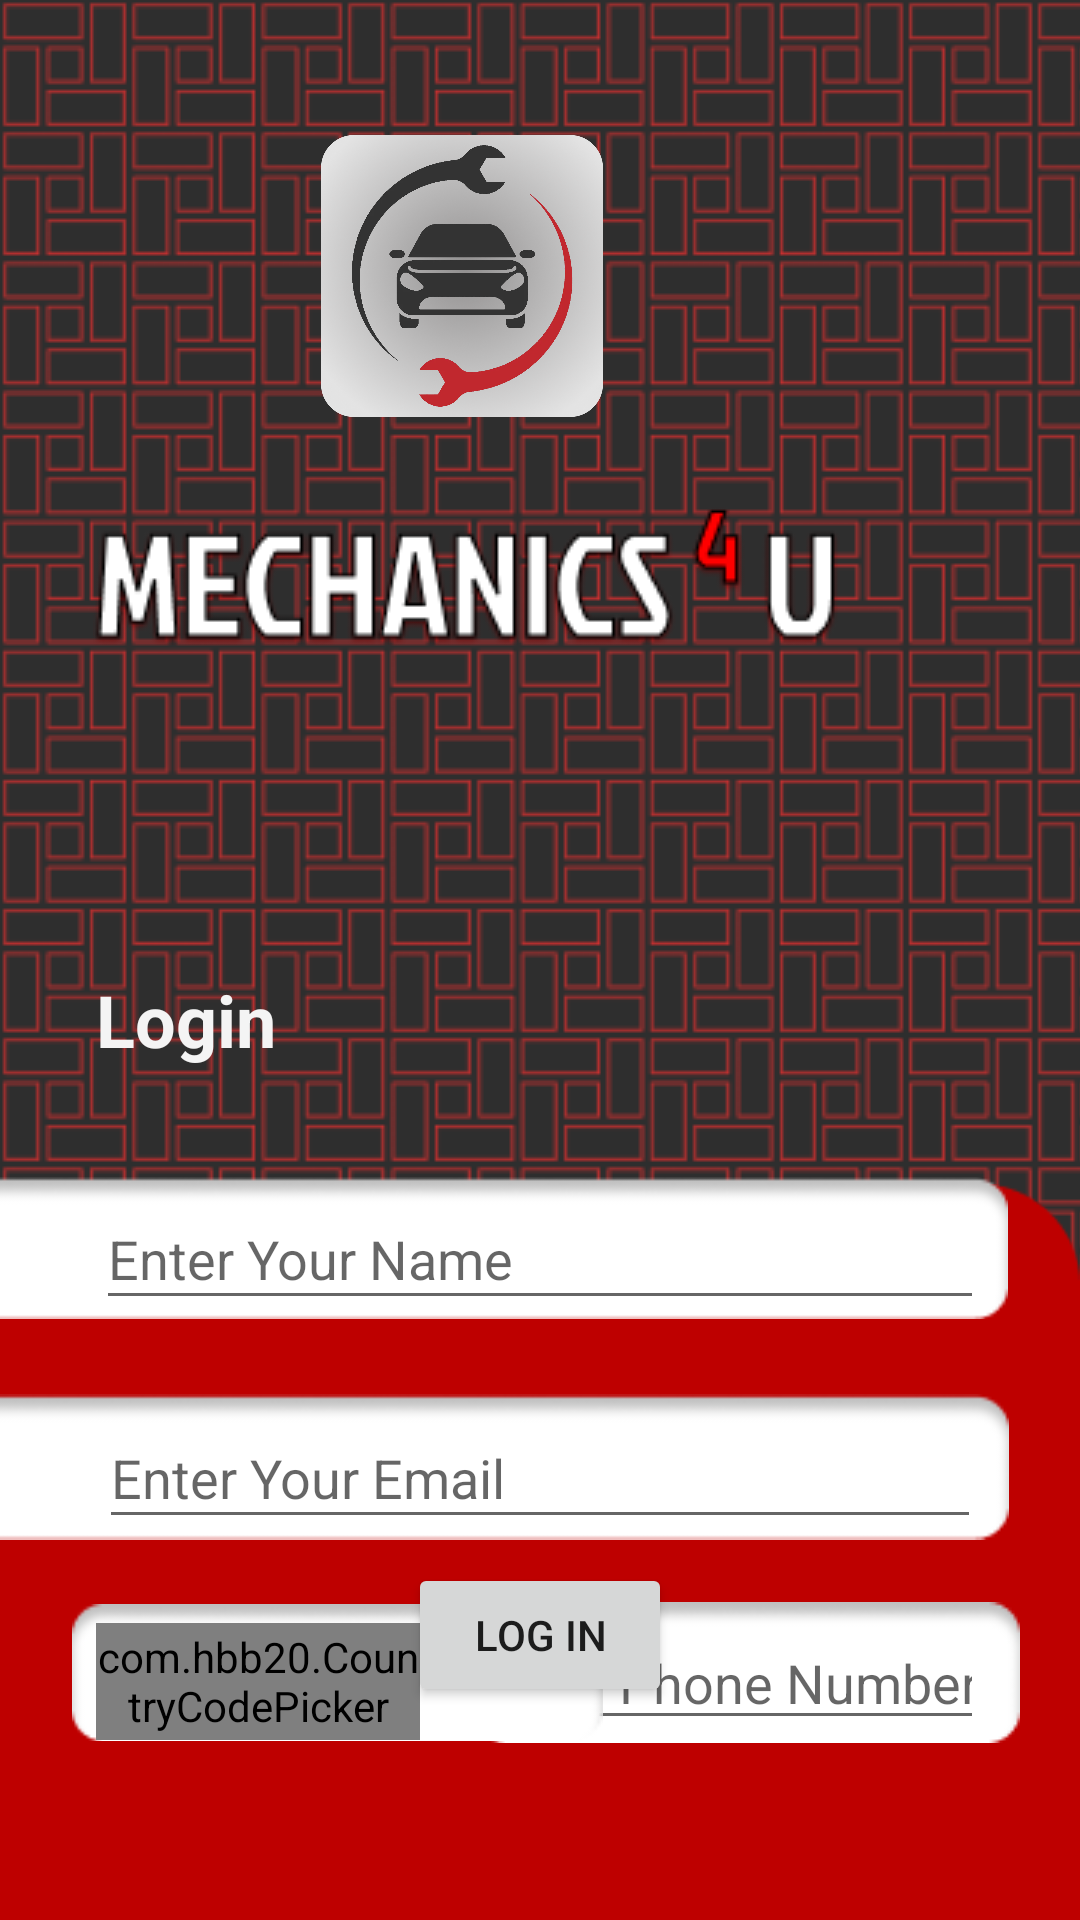

Where to tap for icons on this 1080w x 1920h app screen, as (x=x, y=y):
thumbnail: (x=462, y=276)
